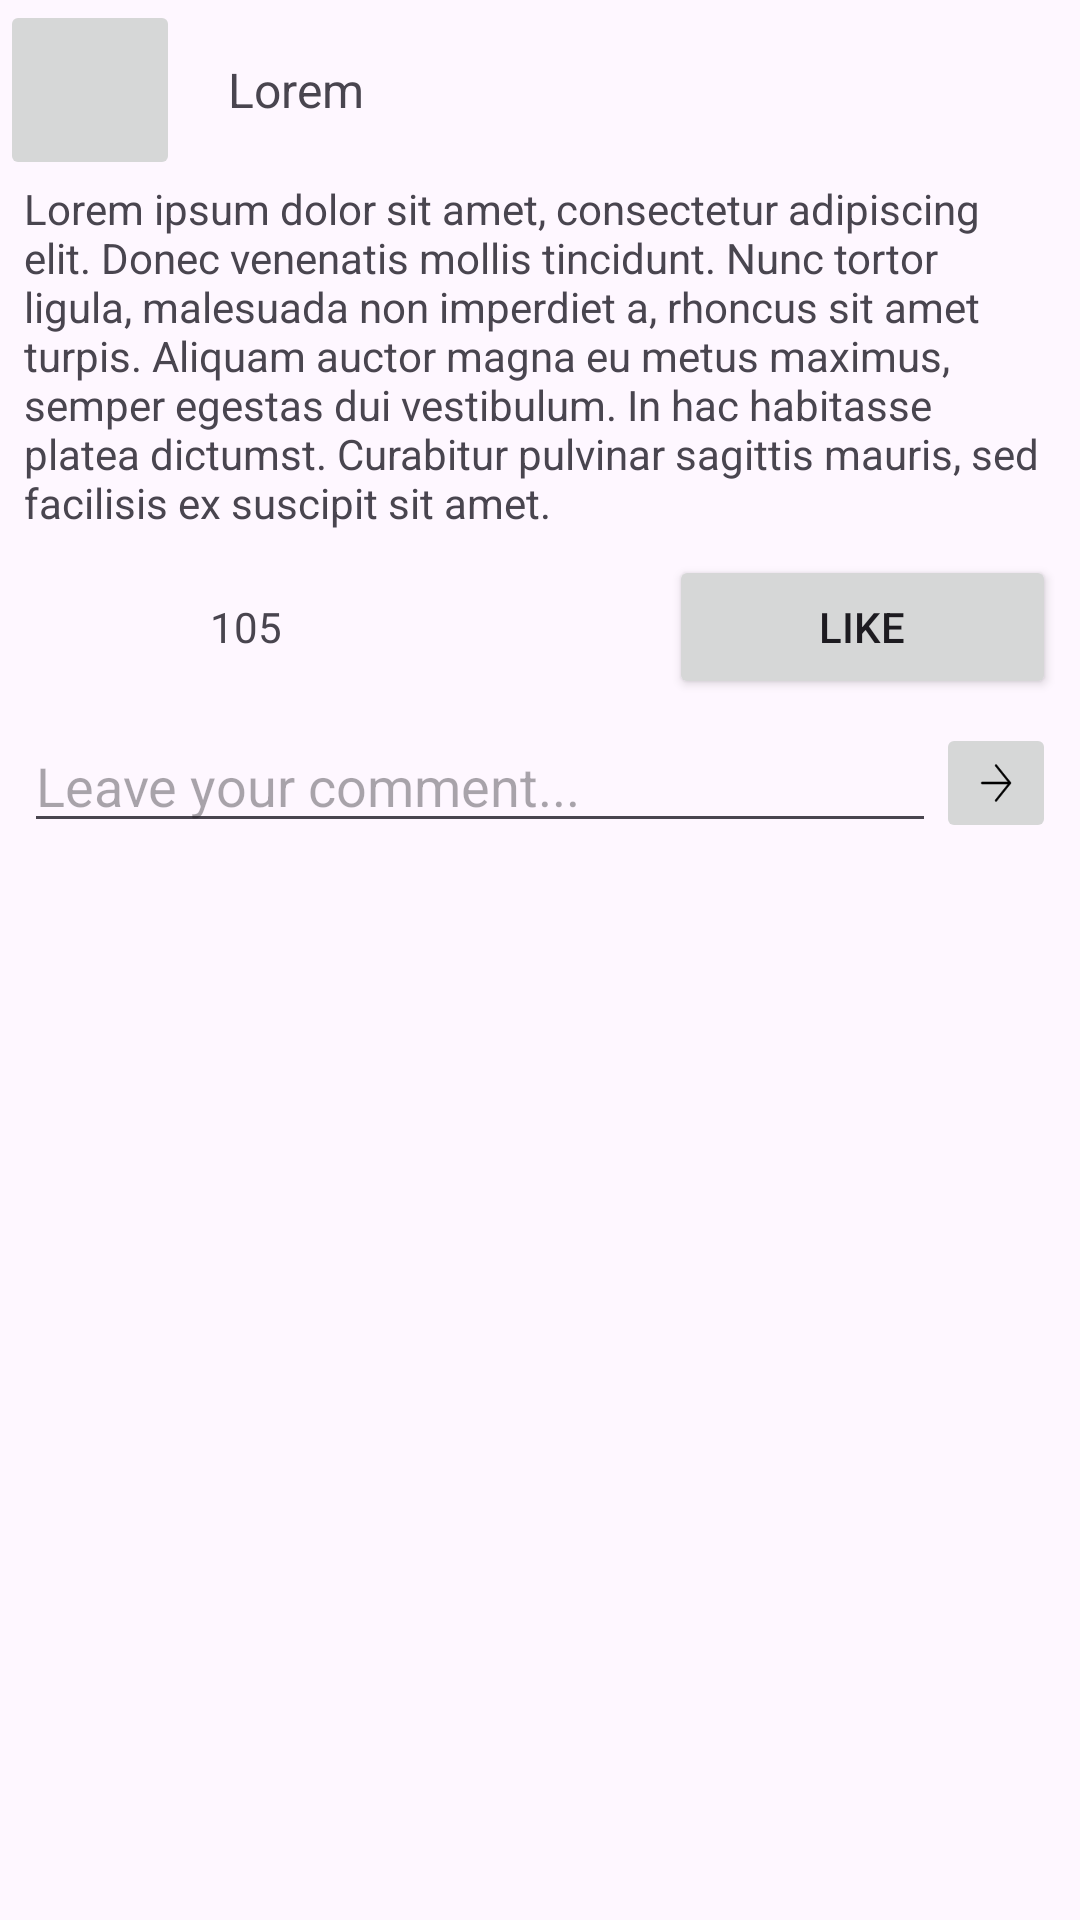

Icon bounding boxes for this 1080×1920 phone screenshot, format (x1=x1, y1=y1, x2=x2, y2=y2):
arrow right: (x1=948, y1=741, x2=1044, y2=825)
